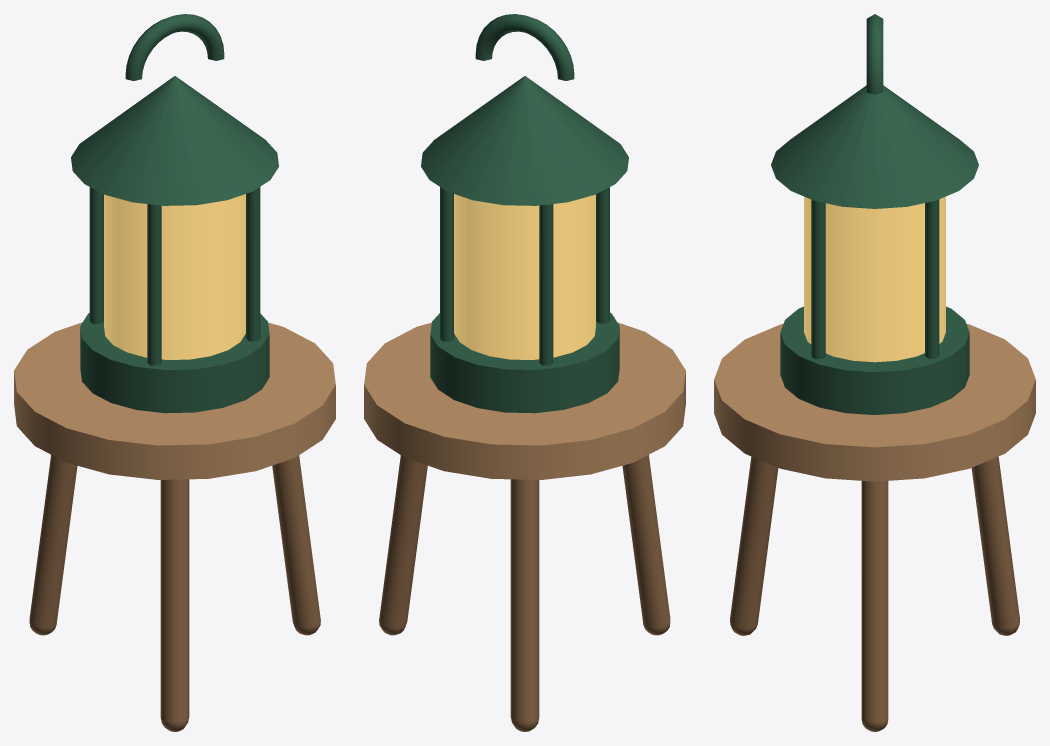
Rendered from lamp-lantern-green.glb.
3 renders of one model, left to right at view 1: azimuth 30°, elevation 25°; view 2: azimuth 150°, elevation 25°; view 3: azimuth 270°, elevation 25°, orthographic.
Visible parts, largest first — view 1: lamp-lantern-green_m_2f5d46, lamp-lantern-green_m_b98d62, lamp-lantern-green_glow_ffd77e, lamp-lantern-green_m_8f6a48; view 2: lamp-lantern-green_m_2f5d46, lamp-lantern-green_m_b98d62, lamp-lantern-green_glow_ffd77e, lamp-lantern-green_m_8f6a48; view 3: lamp-lantern-green_m_2f5d46, lamp-lantern-green_m_b98d62, lamp-lantern-green_glow_ffd77e, lamp-lantern-green_m_8f6a48.
Part boxes in pixels (x1,y1,x2,y2): lamp-lantern-green_m_2f5d46: (71,14,278,413); lamp-lantern-green_m_b98d62: (14,322,335,479); lamp-lantern-green_glow_ffd77e: (104,194,245,359); lamp-lantern-green_m_8f6a48: (29,455,320,731); lamp-lantern-green_m_2f5d46: (421,14,628,413); lamp-lantern-green_m_b98d62: (364,322,685,479); lamp-lantern-green_glow_ffd77e: (454,194,595,359); lamp-lantern-green_m_8f6a48: (379,455,670,731); lamp-lantern-green_m_2f5d46: (771,14,978,414); lamp-lantern-green_m_b98d62: (714,324,1035,481); lamp-lantern-green_glow_ffd77e: (804,196,945,362); lamp-lantern-green_m_8f6a48: (730,456,1019,731).
Bounding box in the file's own units: 0.3449 × 0.7549 × 0.34.
